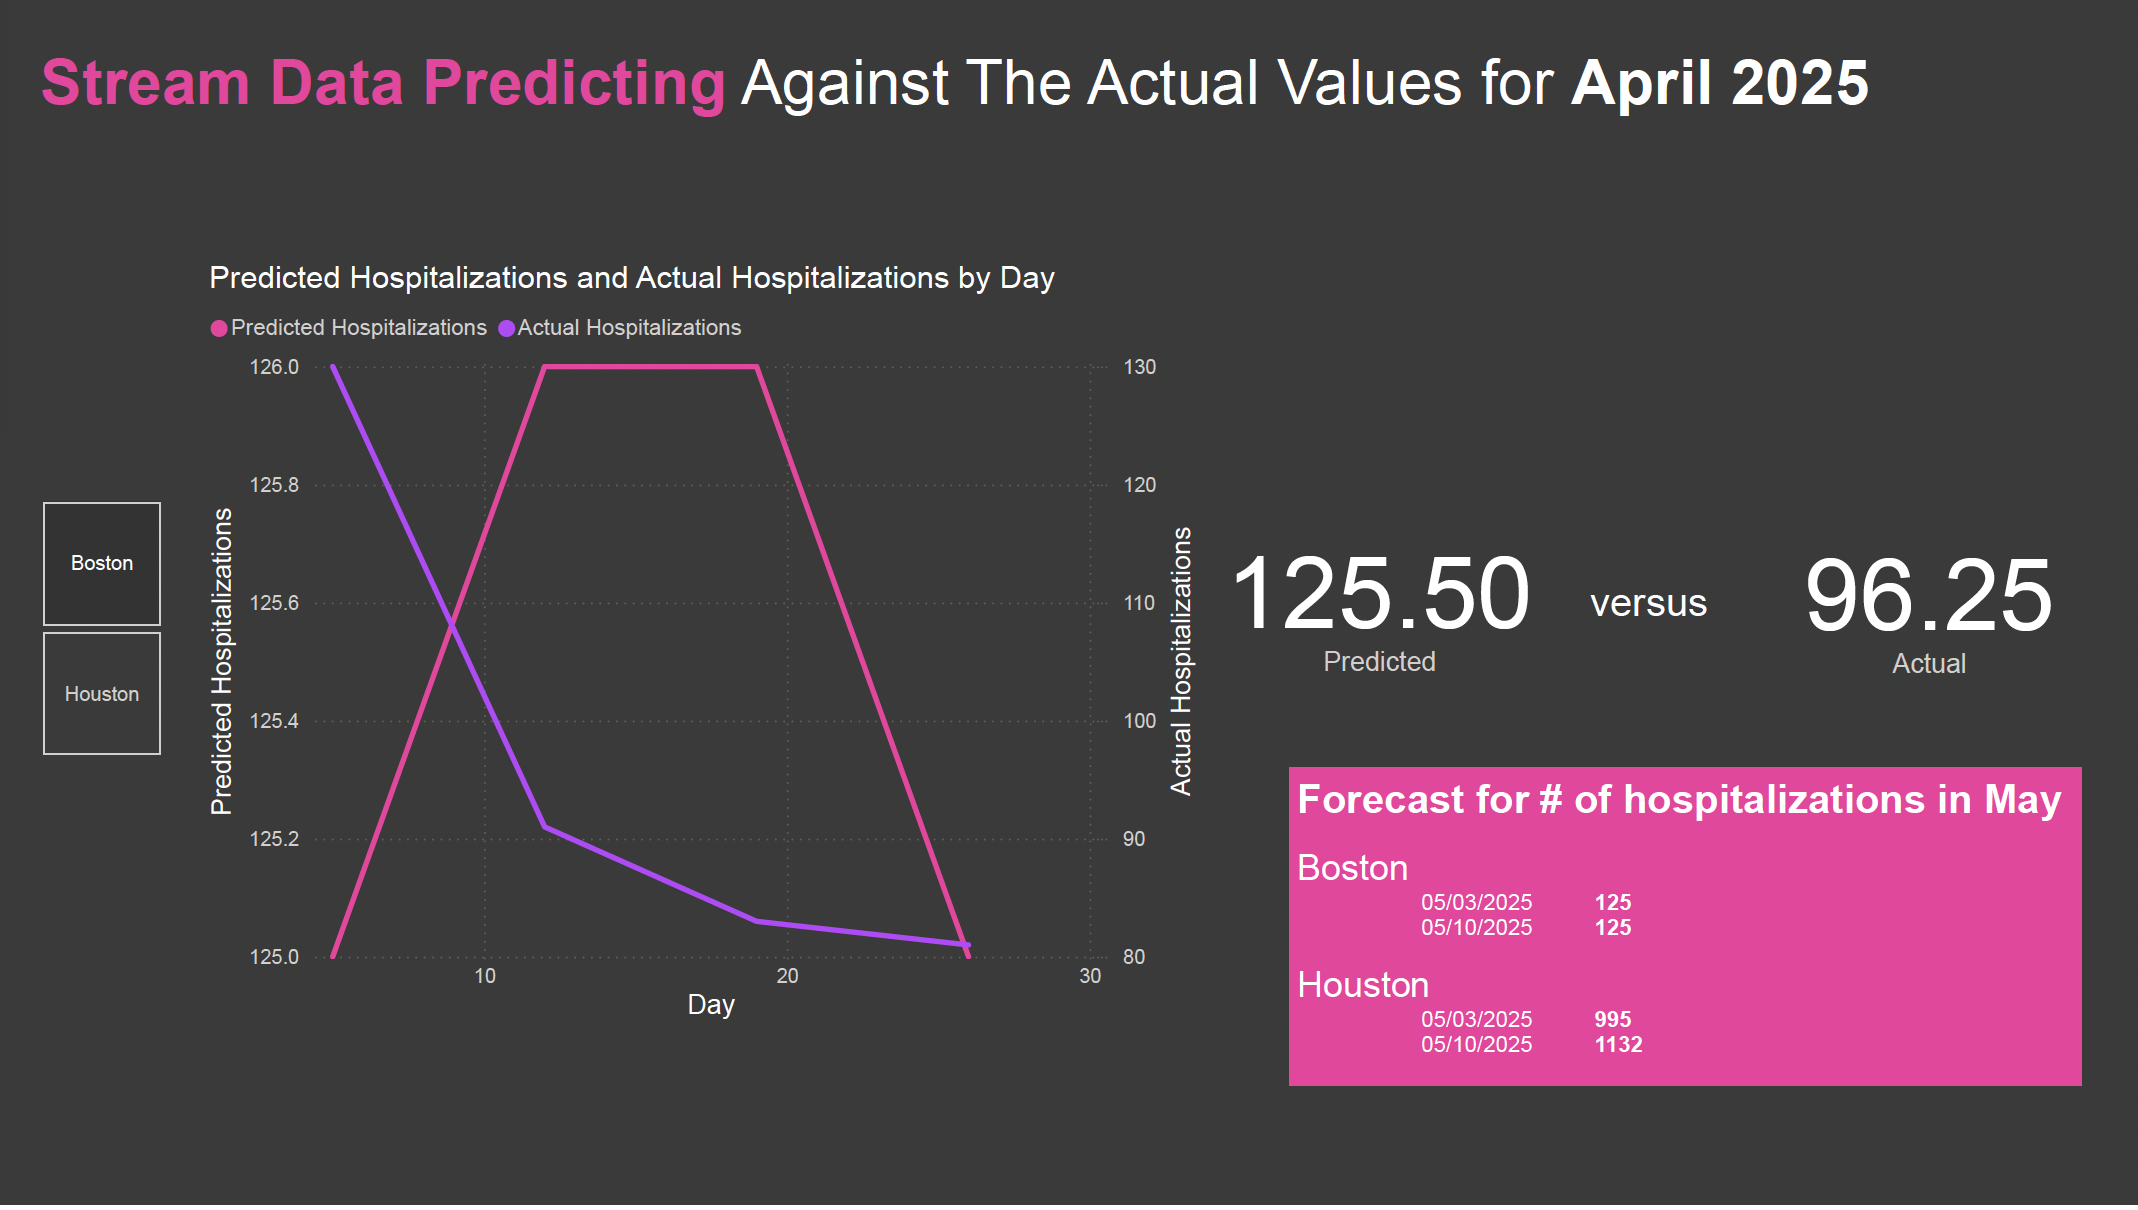

What the dashboard file says about the page in this screenshot:
{"tool":"powerbi","page":{"name":"Stream Forecast","canvas":[1280,720],"ordinal":1},"visuals":[{"type":"lineChart","fields":{"Y":["Avg(Boston_Houston_Pred_vs_Actual_Final.predicted_state_hospitalizations)"],"Category":["Boston_Houston_Pred_vs_Actual_Final.date.Variation.Date Hierarchy.Year","Boston_Houston_Pred_vs_Actual_Final.date.Variation.Date Hierarchy.Quarter","Boston_Houston_Pred_vs_Actual_Final.date.Variation.Date Hierarchy.Month","Boston_Houston_Pred_vs_Actual_Final.date.Variation.Date Hierarchy.Day"],"Y2":["Avg(Boston_Houston_Pred_vs_Actual_Final.actual_state_hospitalizations)"]},"box":[120.1,154.6,600.7,460.4],"z":0},{"type":"textbox","box":[19,22.6,1241.9,58.3],"z":1000},{"type":"card","fields":{"Values":["Avg(Boston_Houston_Pred_vs_Actual_Final.predicted_state_hospitalizations)"]},"box":[721.2,306.4,208.6,104.3],"z":2000},{"type":"card","fields":{"Values":["Avg(Boston_Houston_Pred_vs_Actual_Final.actual_state_hospitalizations)"]},"box":[1041.2,295,226.2,128.8],"z":3000},{"type":"textbox","box":[945.5,340.7,84.3,70],"z":4000},{"type":"slicer","fields":{"Values":["Boston_Houston_Pred_vs_Actual_Final.city"]},"box":[0,292.6,120.1,165.4],"z":5000},{"type":"textbox","box":[762.5,423.5,472.3,253.4],"z":5001}]}

Visuals, with their boxes in screenshot pixels (x1, y1, x2, y2), scaled from the page's 1280x720 canvas onto the 2138x1210 screenshot:
lineChart - Avg(Boston_Houston_Pred_vs_Actual_Final.predicted_state_hospitalizations) x Boston_Houston_Pred_vs_Actual_Final.date.Variation.Date Hierarchy.Year: <box>201,260,1204,1034</box>
textbox: <box>32,38,2106,136</box>
card - Avg(Boston_Houston_Pred_vs_Actual_Final.predicted_state_hospitalizations): <box>1205,515,1553,690</box>
card - Avg(Boston_Houston_Pred_vs_Actual_Final.actual_state_hospitalizations): <box>1739,496,2117,712</box>
textbox: <box>1579,573,1720,690</box>
slicer - Boston_Houston_Pred_vs_Actual_Final.city: <box>0,492,201,770</box>
textbox: <box>1274,712,2063,1138</box>
